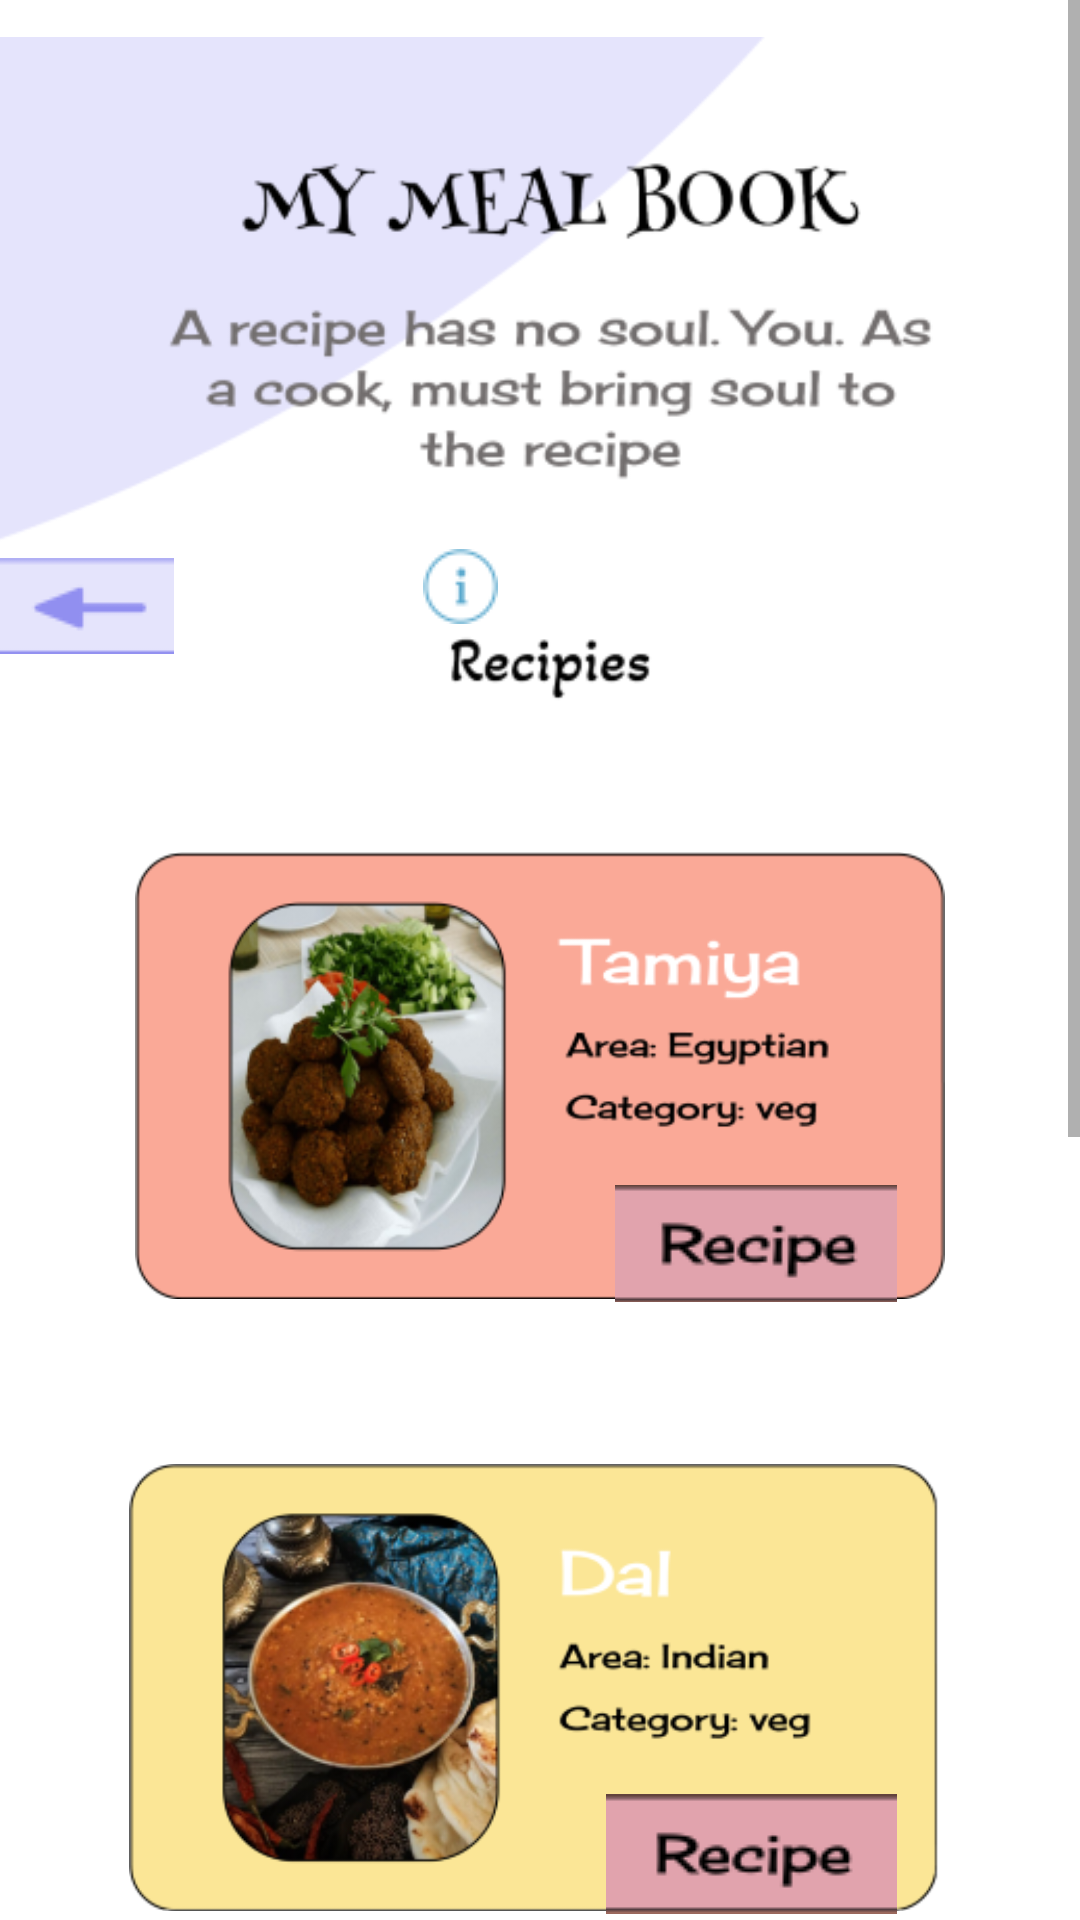

Icon bounding boxes for this 1080w x 1920h phone screenshot, format (x1, y1, x2, y2):
arrow: (0, 558, 174, 654)
info: (423, 549, 498, 624)
